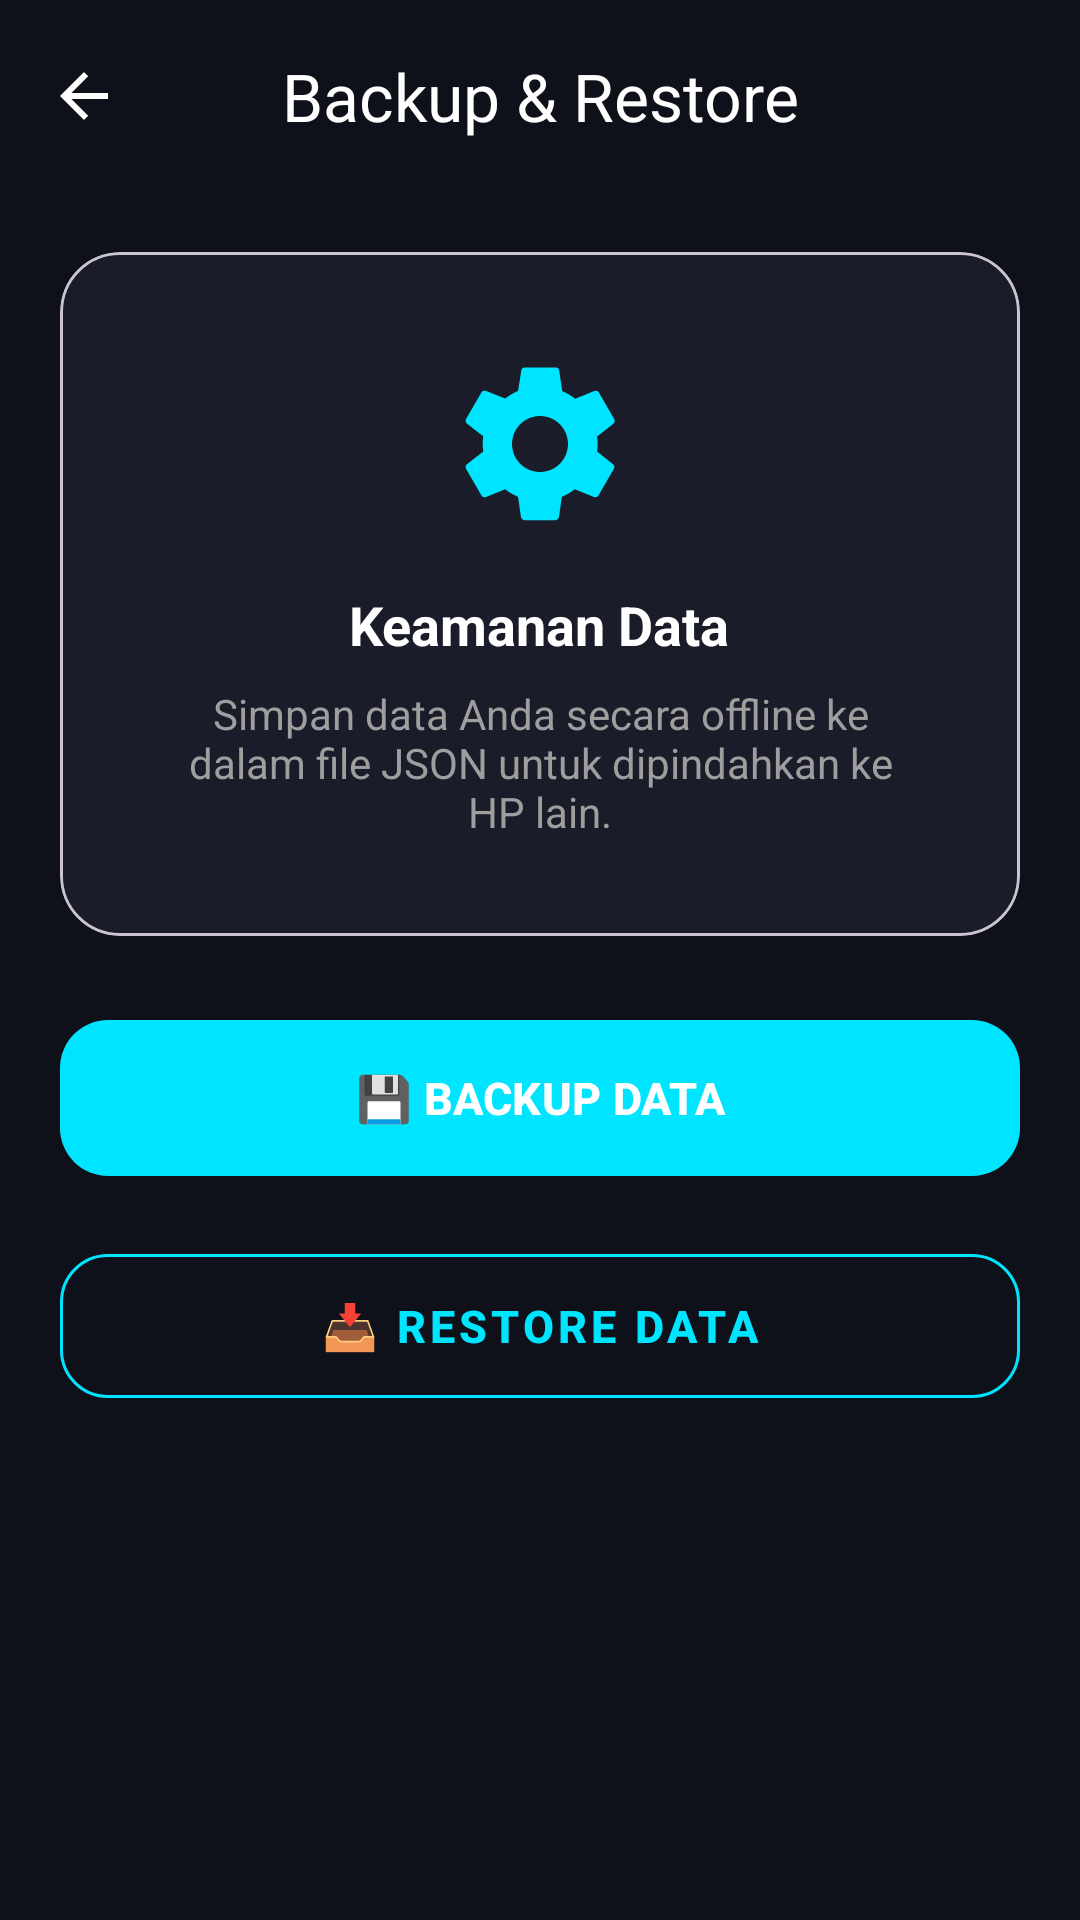

Where to tap for icons on this 1080 × 1920 app screen, as [x,y]:
settings: [540,444]
